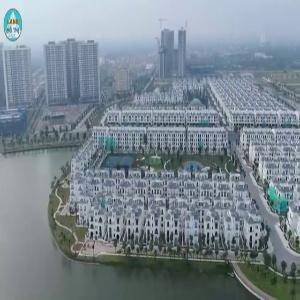drone: (122, 145, 161, 184)
